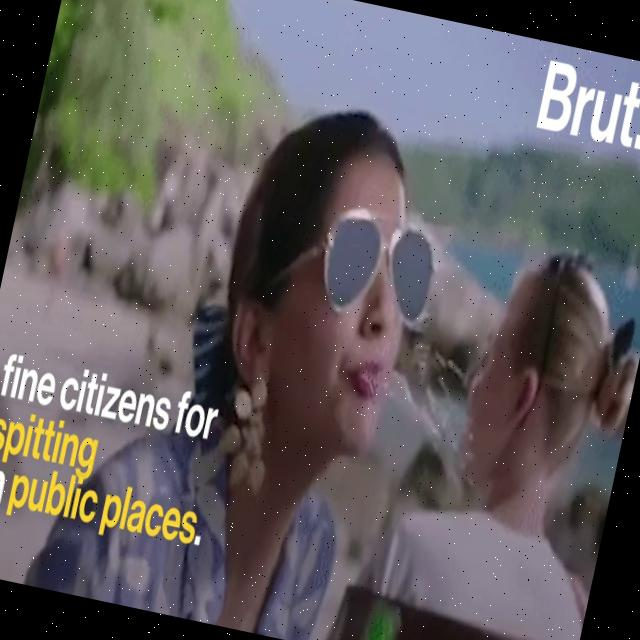spit: (299, 187, 527, 595)
